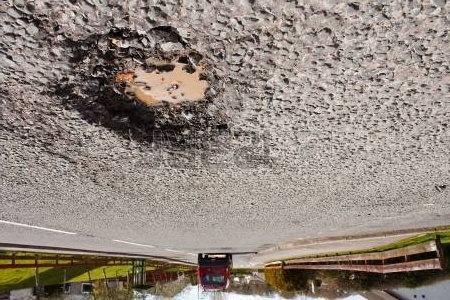pothole: (56, 22, 241, 157)
